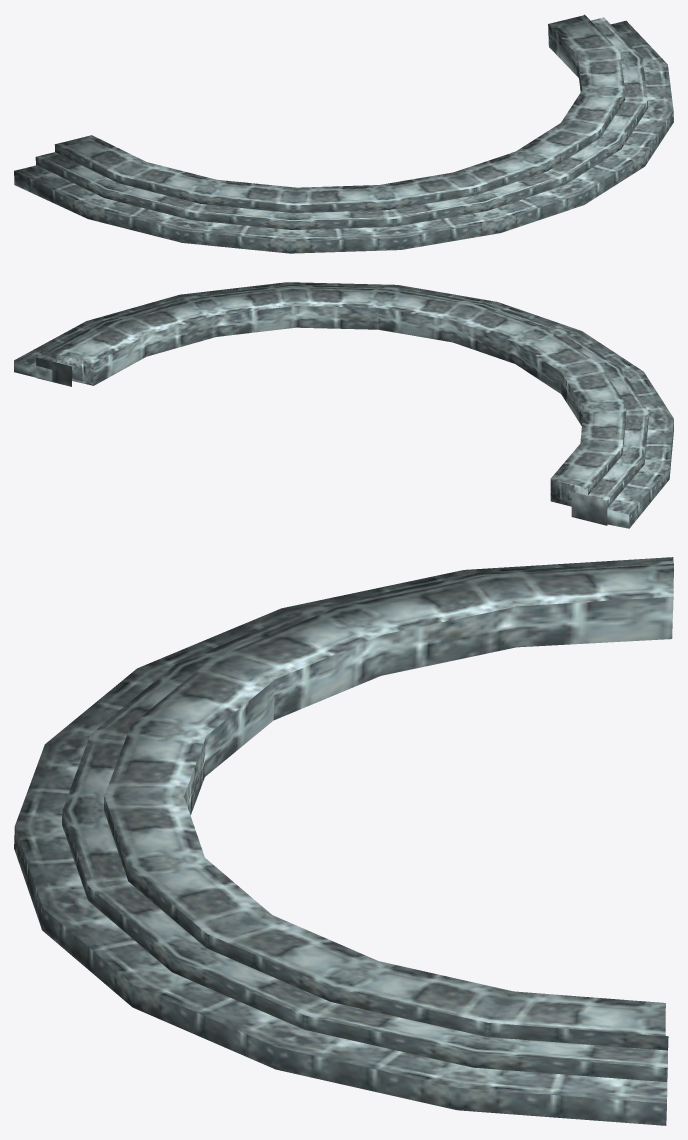
Rendered from S_Build_Snowland166.FBX.
The picture shows the model from 3 angles, top to bottom: view 1: azimuth 30°, elevation 25°; view 2: azimuth 150°, elevation 25°; view 3: azimuth 270°, elevation 25°; orthographic projection. The views are drawn at different scales.
Visible parts, largest first — view 1: S_Build_Snowland166; view 2: S_Build_Snowland166; view 3: S_Build_Snowland166.
Boxes of the visible parts, left/top/right/bottom form: S_Build_Snowland166: left=14, top=14, right=673, bottom=253; S_Build_Snowland166: left=14, top=282, right=673, bottom=528; S_Build_Snowland166: left=14, top=557, right=673, bottom=1125.
Size of the model in its own units: 1566 by 792 by 92.17.
